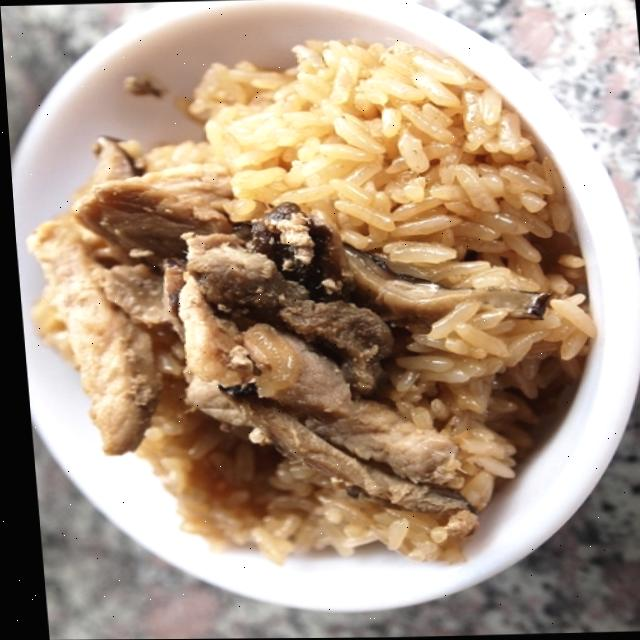米饭主食: (1, 8, 622, 601)
